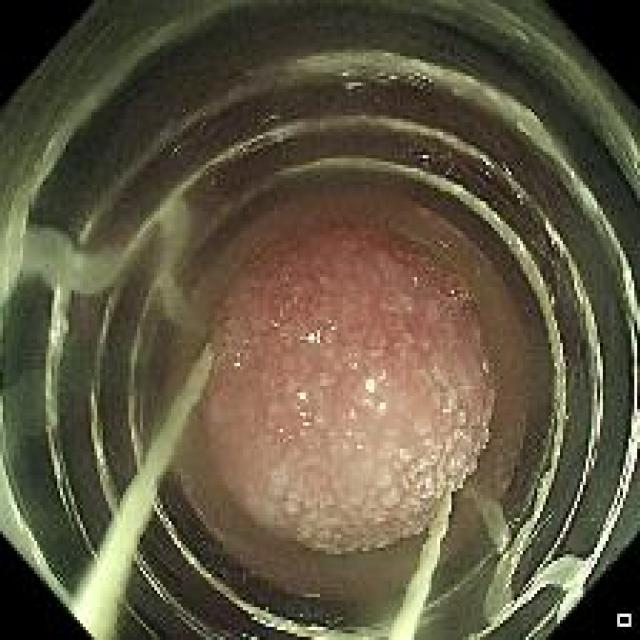blur: (201, 345, 298, 472)
bubbles: (438, 268, 470, 309)
instrument: (6, 13, 630, 627), (61, 335, 222, 637), (22, 184, 195, 344), (462, 483, 583, 621), (388, 484, 460, 634)
specularity: (299, 326, 328, 356), (228, 345, 247, 380), (359, 371, 378, 398), (292, 411, 315, 433), (293, 384, 309, 411), (348, 356, 366, 379), (324, 316, 342, 331), (265, 373, 277, 393), (411, 266, 421, 290), (272, 426, 286, 439)
